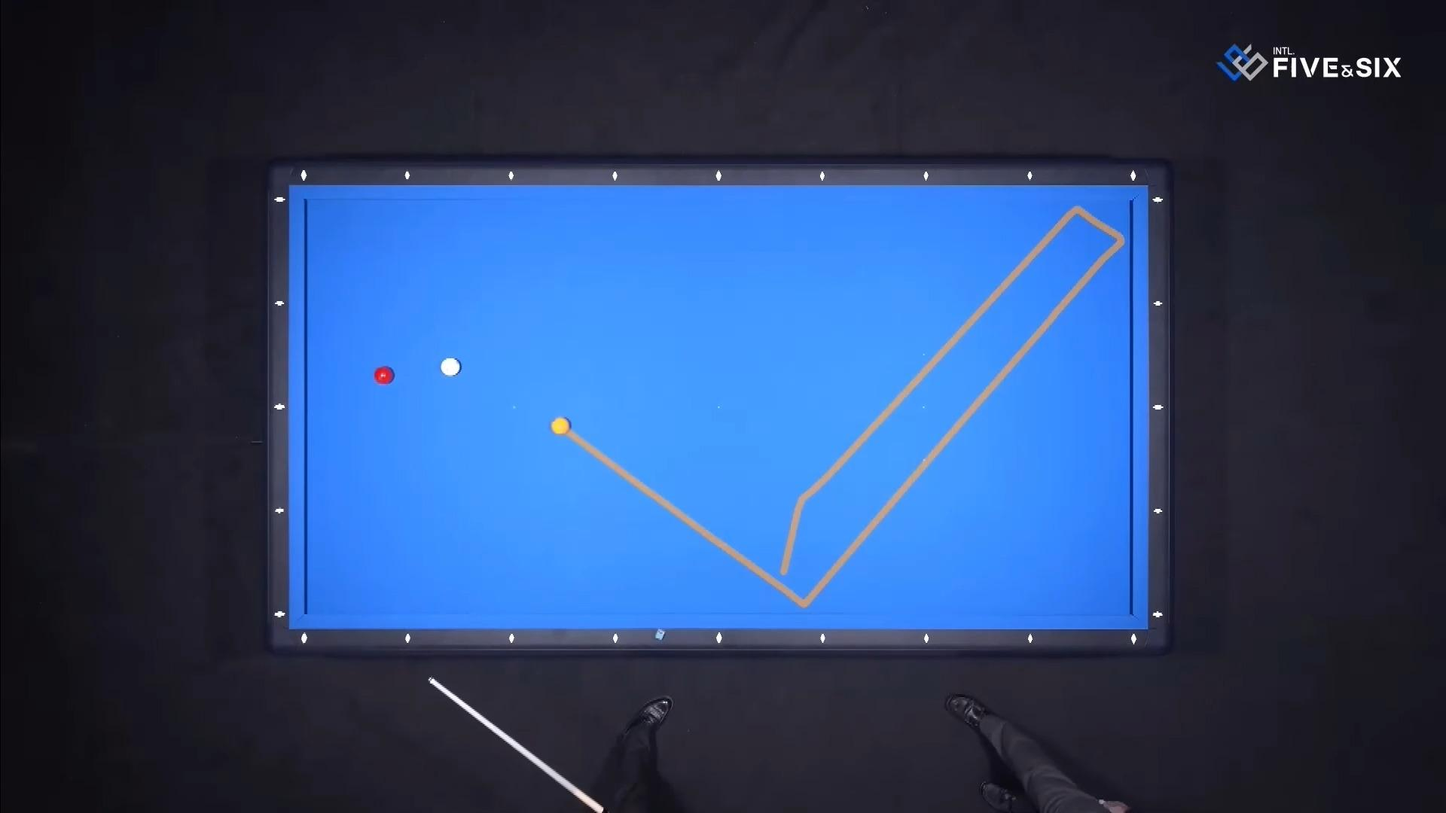Red: (372, 366, 397, 385)
White: (436, 358, 462, 378)
Yellow: (549, 417, 574, 436)
